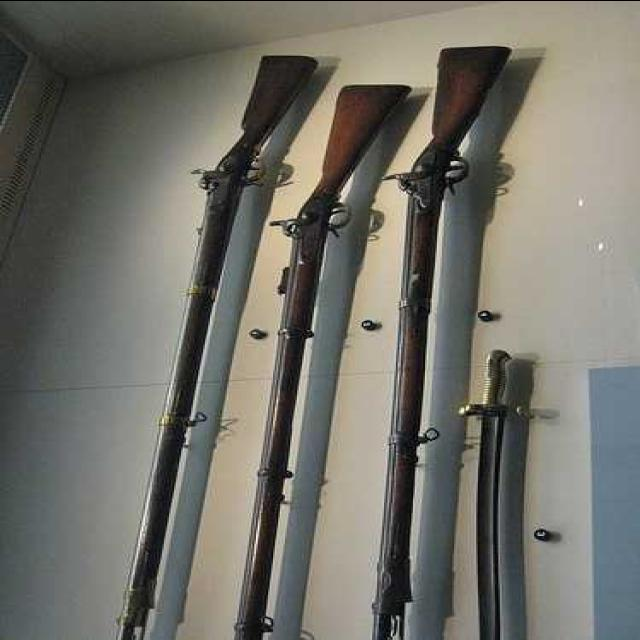heavyweapon: (78, 37, 330, 640), (196, 71, 423, 640), (386, 35, 486, 640)
